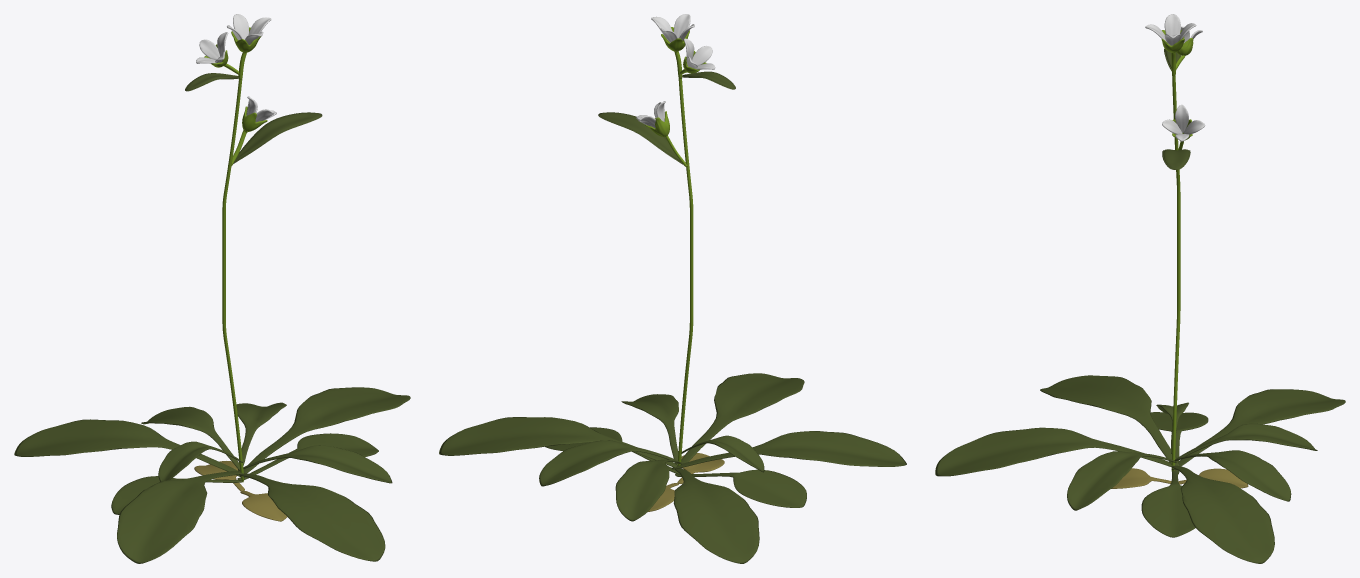
3 renders of one model, left to right at view 1: azimuth 30°, elevation 25°; view 2: azimuth 150°, elevation 25°; view 3: azimuth 270°, elevation 25°, orthographic.
Visible parts, largest first — view 1: Leaf_0, Leaf_Circle.005_6; view 2: Leaf_Circle.005_6, Leaf_0; view 3: Leaf_0, Leaf_Circle.005_6.
Boxes of the visible parts, <box> form: Leaf_0: <box>17,14,410,563</box>; Leaf_Circle.005_6: <box>14,14,410,563</box>; Leaf_Circle.005_6: <box>439,15,904,563</box>; Leaf_0: <box>441,14,906,561</box>; Leaf_0: <box>935,14,1344,563</box>; Leaf_Circle.005_6: <box>948,15,1345,563</box>.
Size of the model in its own units: 0.2477 by 0.297 by 0.2378.
